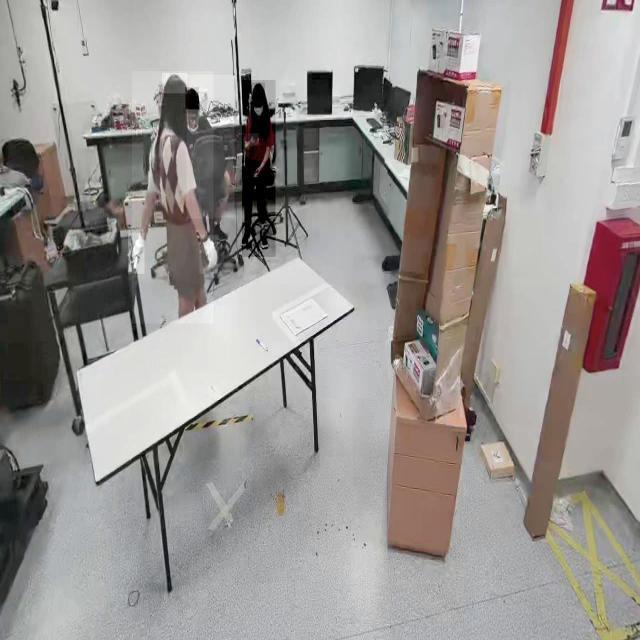face_mask: (251, 94, 265, 126)
hand_glove: (199, 234, 219, 274), (128, 233, 145, 275)
hand_noglove: (248, 133, 259, 147), (253, 163, 261, 177)
head_nohelmet: (162, 73, 188, 94), (186, 87, 200, 110), (252, 83, 266, 97)
person: (132, 71, 214, 325), (187, 74, 235, 218), (242, 80, 276, 258)
